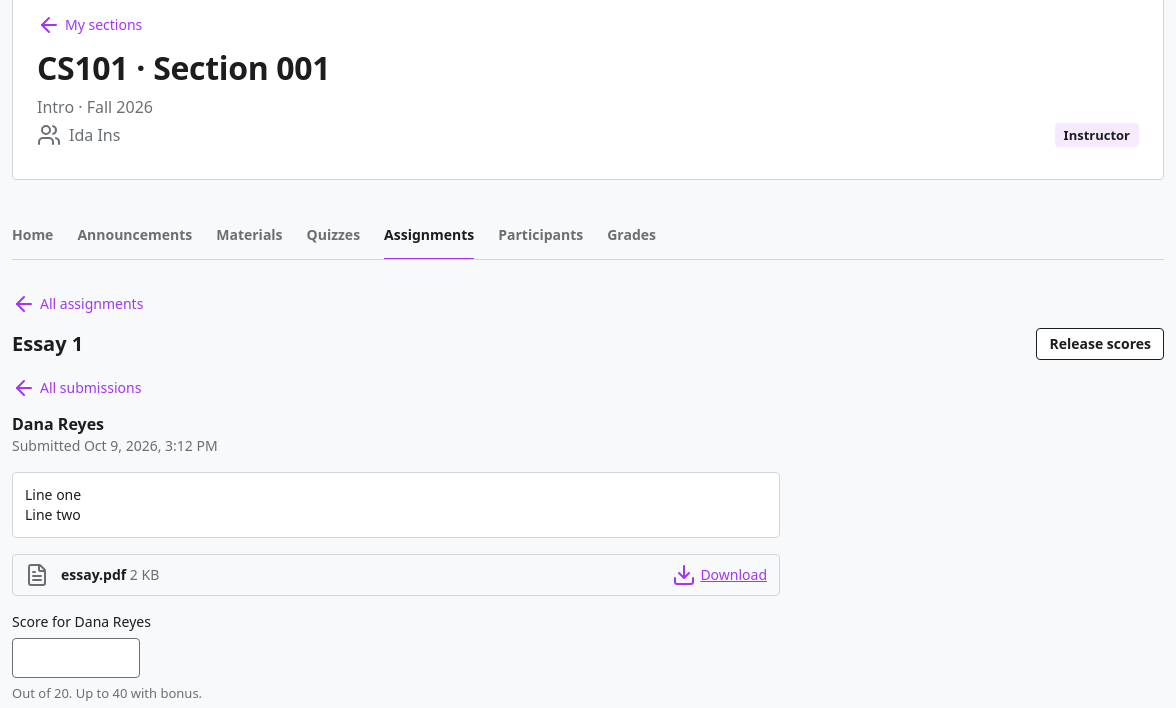
panel: Save grade PATCHes score and feedback and announces
In the field labelled "Score for Dana Reyes": (76, 658) [12,638,140,678], type "17.5"
(page scrolled)
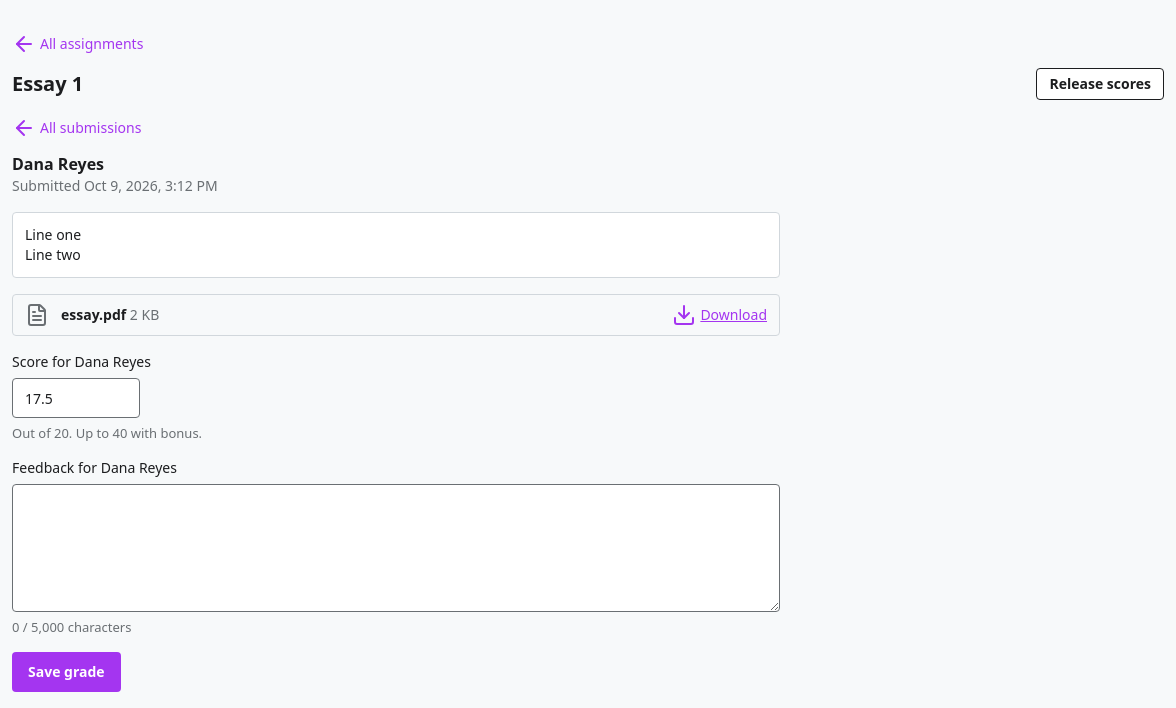
In the text box labelled "Feedback for Dana Reyes": (396, 548) [12,484,780,612], type "Good use of sources."
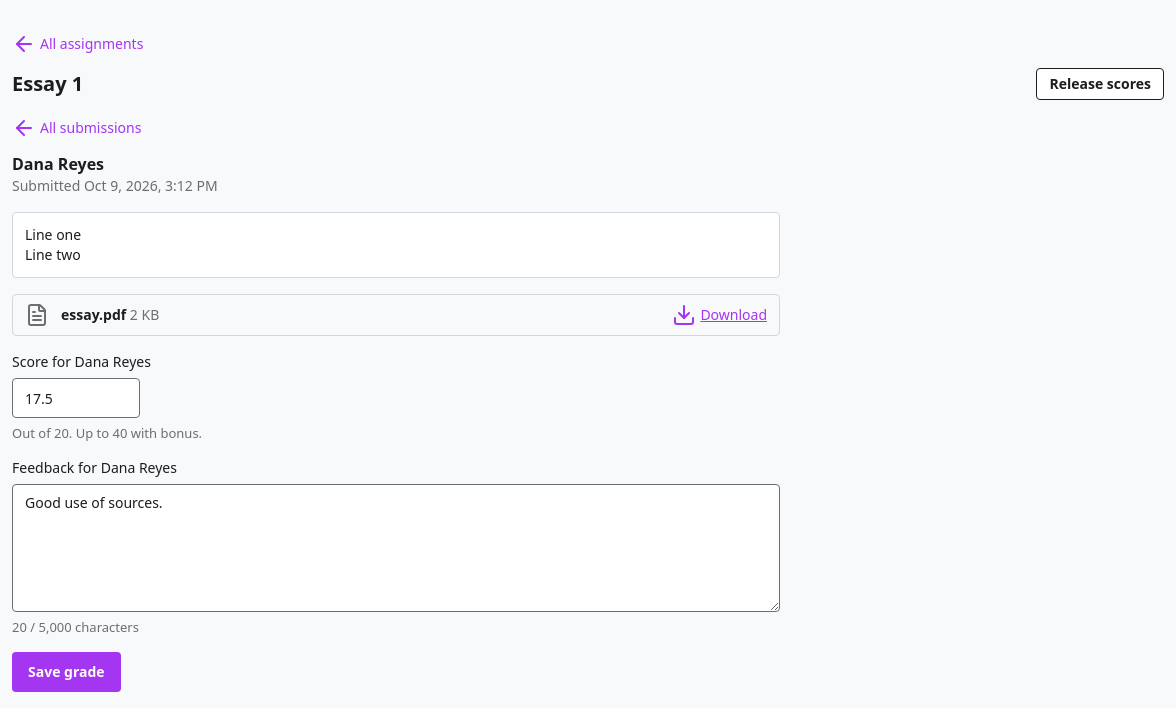
Click the button "Save grade": (66, 672) [12,652,121,692]
(page scrolled)
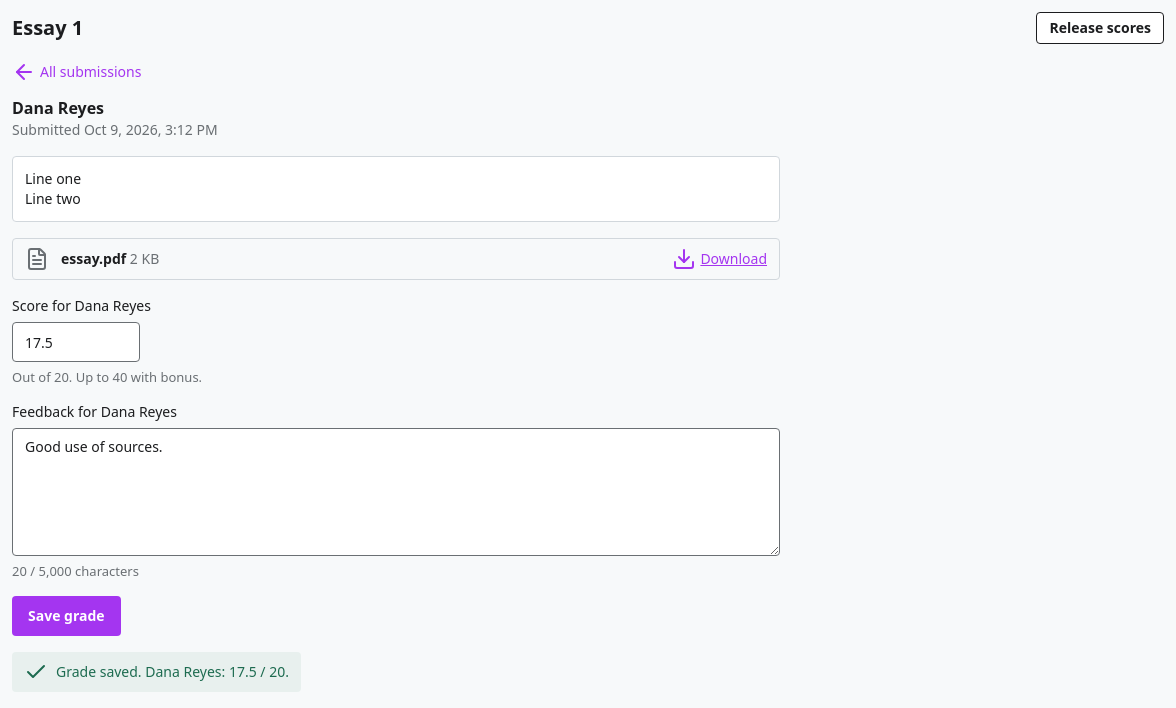
Check: the text "Grade saved. Dana Reyes: 17.5 / 20." is shown, box [12,652,301,692]
